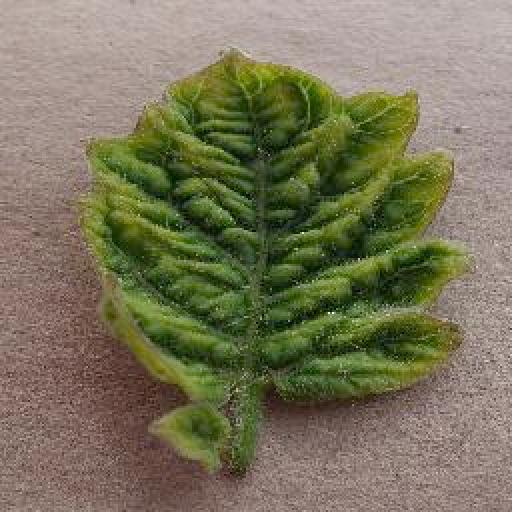disease_tomato: (75, 40, 463, 410)
